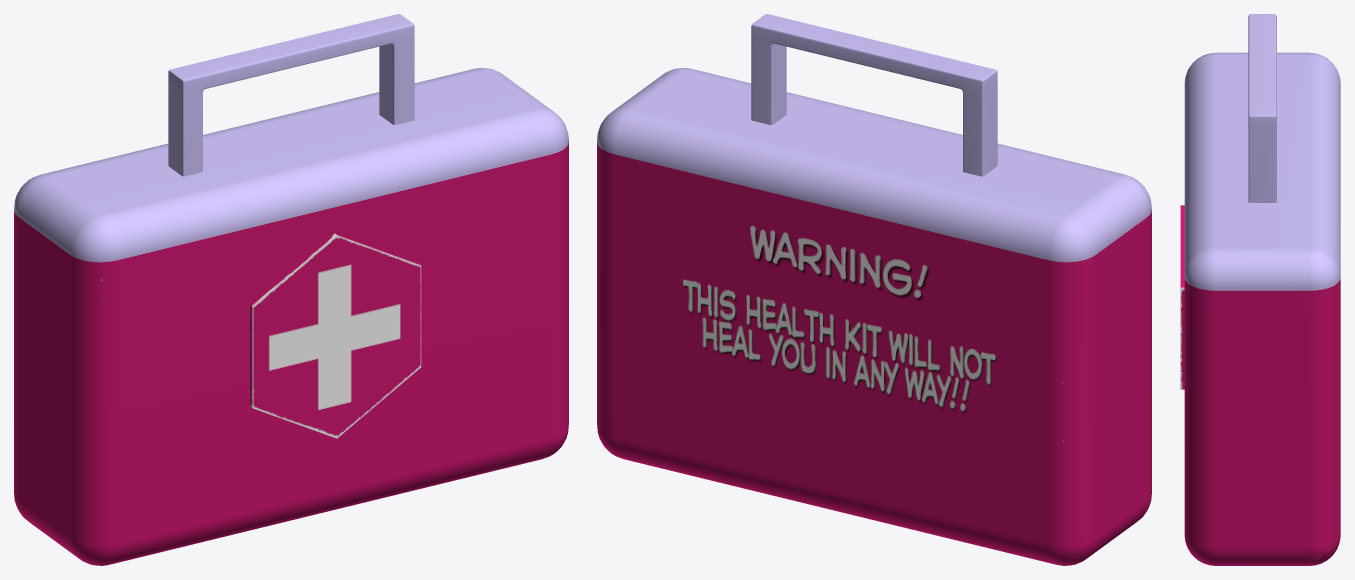
Rendered from first aid.fbx.
3 renders of one model, left to right at view 1: azimuth 30°, elevation 25°; view 2: azimuth 150°, elevation 25°; view 3: azimuth 270°, elevation 25°, orthographic. The views are drawn at different scales.
Visible parts, largest first — view 1: first_aid; view 2: first_aid; view 3: first_aid.
Boxes of the visible parts, x1,y1,x2,y2 form: first_aid: (14, 14, 568, 565); first_aid: (597, 14, 1151, 565); first_aid: (1180, 14, 1340, 565).
Bounding box in the file's own units: 35.24 × 30.28 × 10.95.
